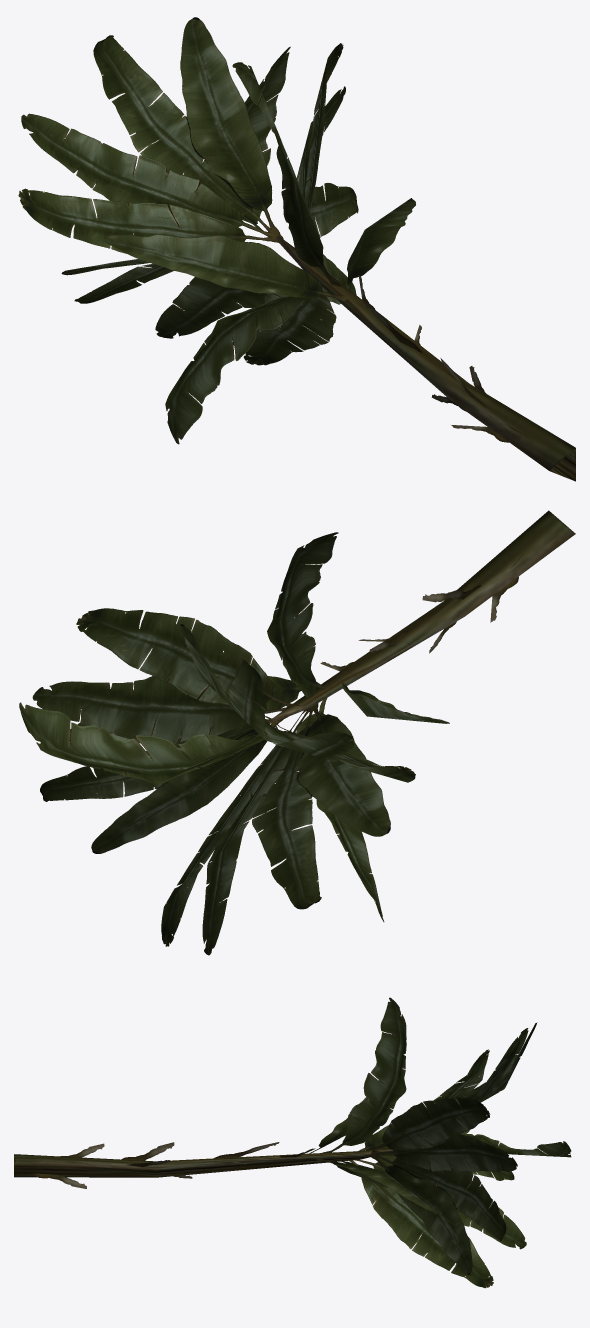
File: MEP_Palm_02_S.fbx
3 views of the same model, one above another, from view 1: azimuth 30°, elevation 25°; view 2: azimuth 150°, elevation 25°; view 3: azimuth 270°, elevation 25° (orthographic). The views are drawn at different scales.
Parts seen in each view (by area): view 1: MEP_Palm_02_S; view 2: MEP_Palm_02_S; view 3: MEP_Palm_02_S.
Part boxes in pixels (box(x1,y1,x2,y2)): MEP_Palm_02_S: box(18, 17, 575, 481); MEP_Palm_02_S: box(19, 510, 575, 955); MEP_Palm_02_S: box(14, 997, 571, 1288).
Size of the model in its own units: 3.71 by 3.48 by 6.55.
